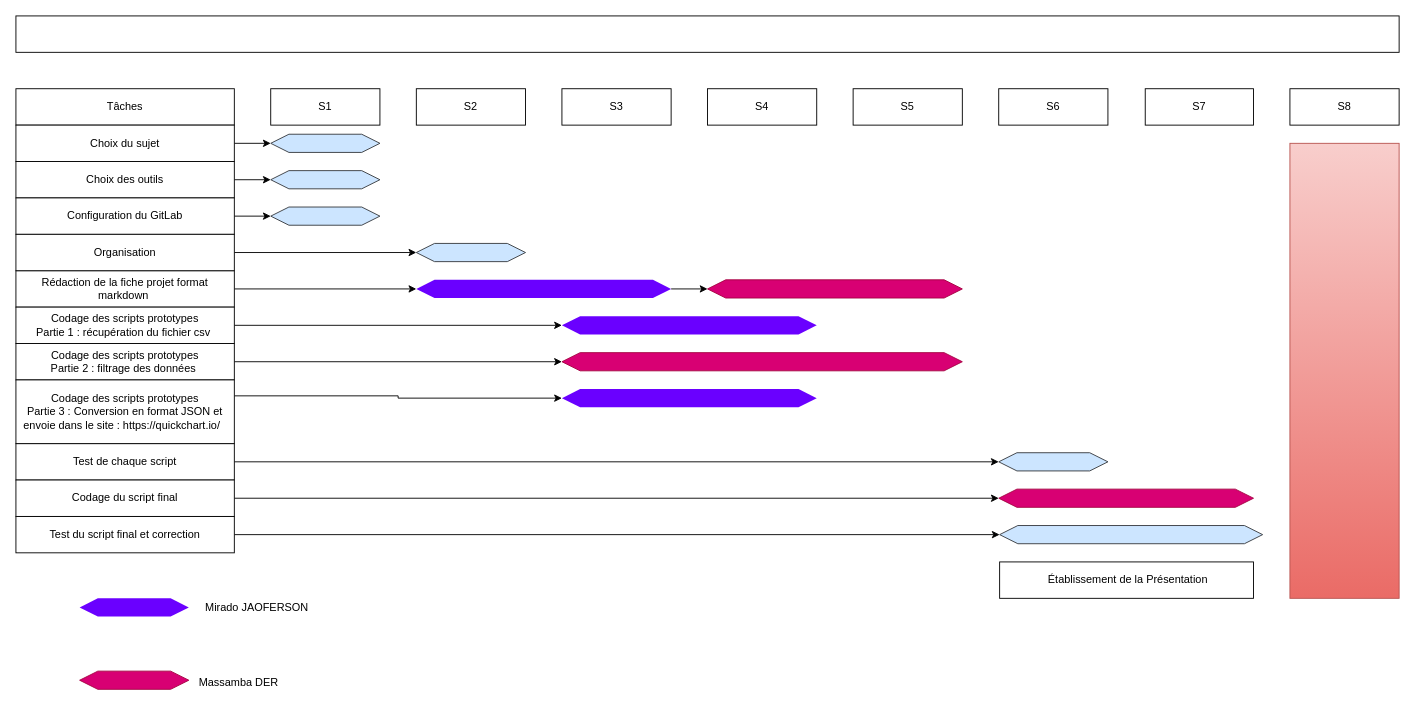
The diagram is 1415 pixels wide and 723 high, and some of its shapes have lost their labels. Each missing label, with the centre of its shape:
Diagramme de Gant: [707,33]
Évaluation: [1344,370]
